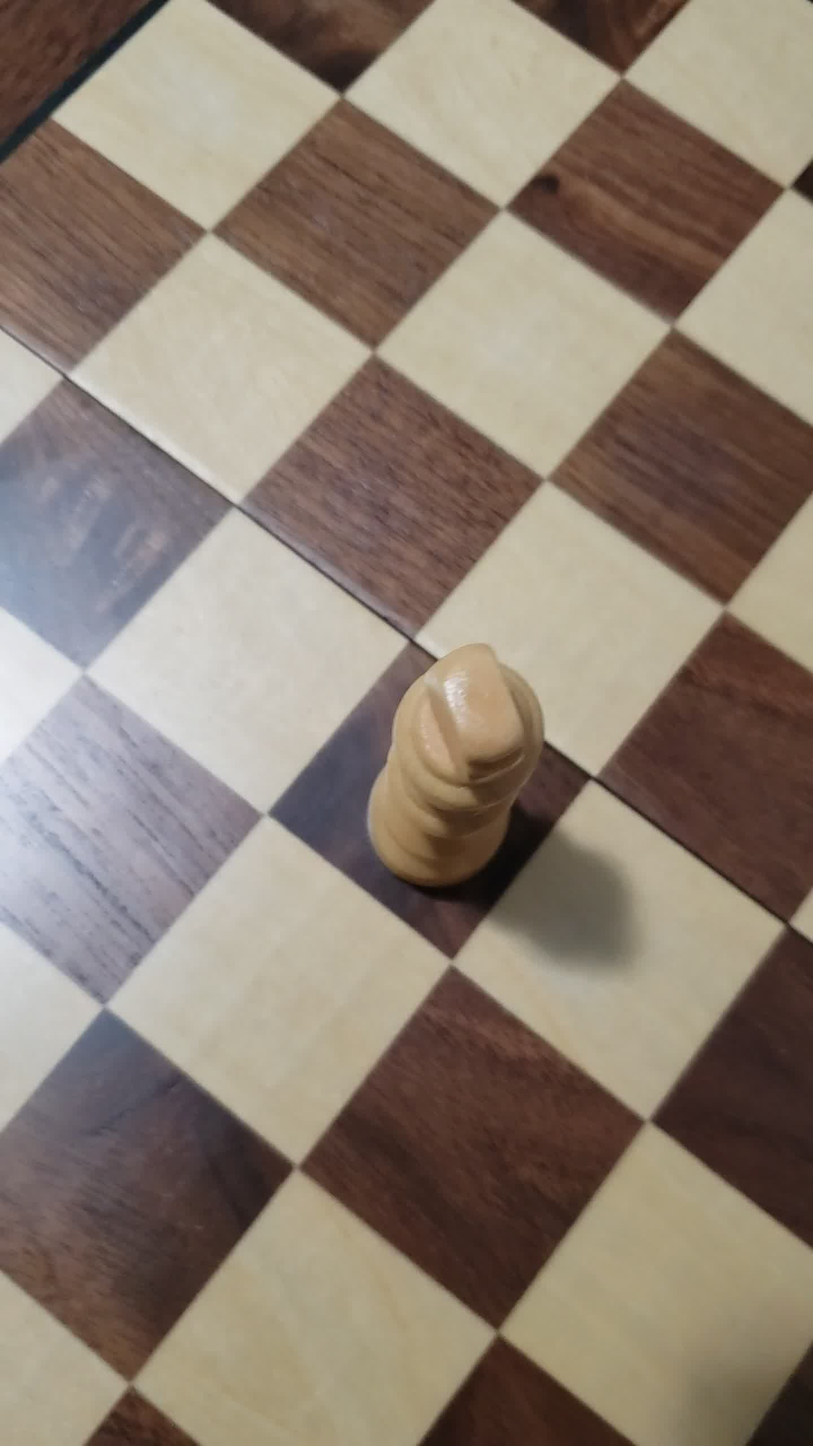white-king: (359, 630, 551, 912)
